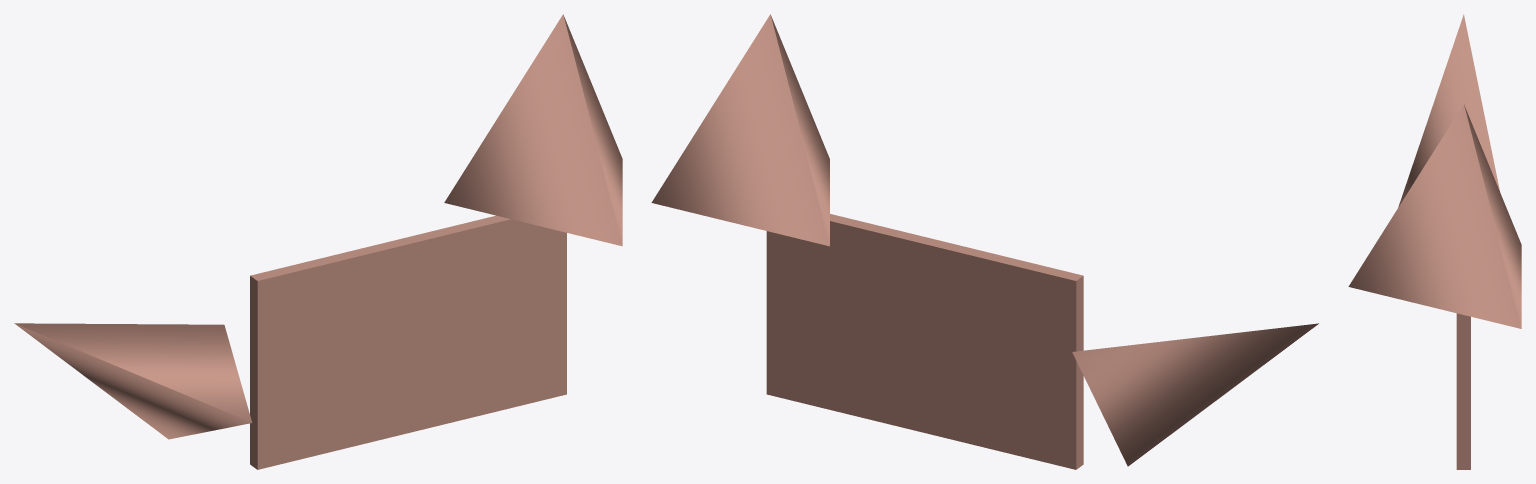
The model's file is canvas-hero-fox.gltf.
3 renders of one model, left to right at view 1: azimuth 30°, elevation 25°; view 2: azimuth 150°, elevation 25°; view 3: azimuth 270°, elevation 25°, orthographic. The views are drawn at different scales.
Visible parts, largest first — view 1: Body, Head, Tail; view 2: Body, Head, Tail; view 3: Head, Tail, Body.
Boxes of the visible parts, left/top/right/bottom form: Body: left=250, top=215, right=566, bottom=469; Head: left=444, top=14, right=622, bottom=246; Tail: left=14, top=323, right=252, bottom=439; Body: left=766, top=214, right=1083, bottom=469; Head: left=651, top=14, right=829, bottom=246; Tail: left=1072, top=323, right=1318, bottom=466; Head: left=1348, top=104, right=1521, bottom=328; Tail: left=1398, top=14, right=1499, bottom=207; Body: left=1456, top=313, right=1470, bottom=469.
Size of the model in its own units: 0.4952 by 0.28 by 0.12.
